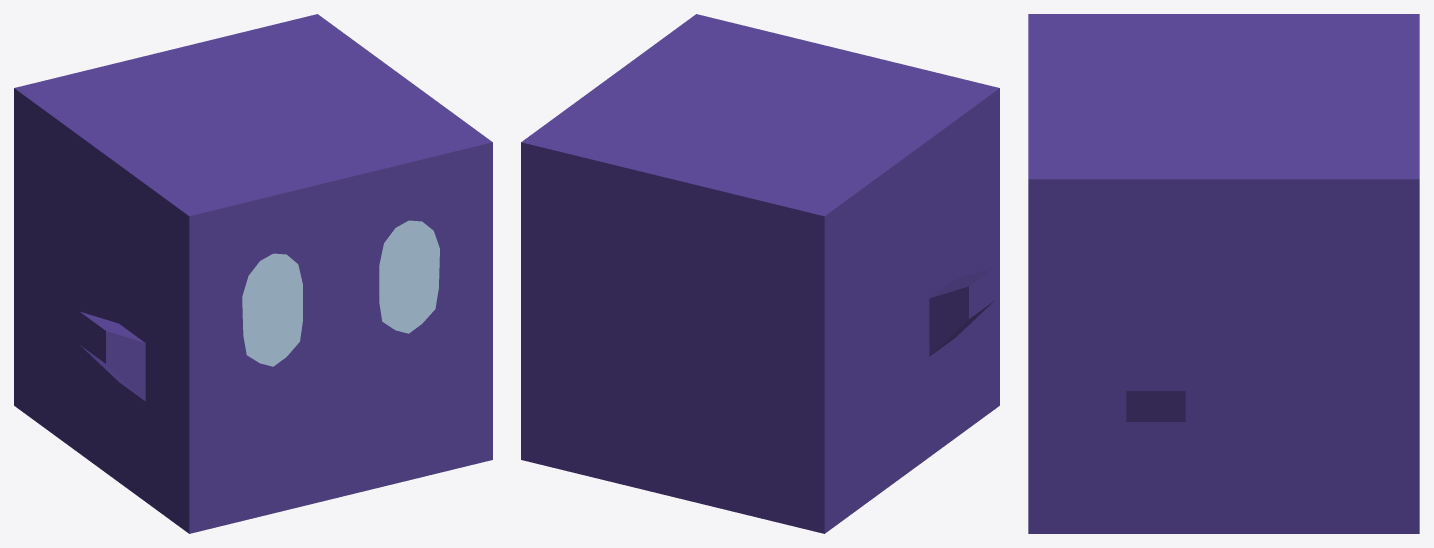
The model's file is new_cube_minion.dae.
3 renders of one model, left to right at view 1: azimuth 30°, elevation 25°; view 2: azimuth 150°, elevation 25°; view 3: azimuth 270°, elevation 25°, orthographic. The views are drawn at different scales.
Parts seen in each view (by area): view 1: Cube; view 2: Cube; view 3: Cube.
Boxes of the visible parts, bbox=[...] form: Cube: bbox=[14, 14, 492, 533]; Cube: bbox=[521, 14, 999, 533]; Cube: bbox=[1028, 14, 1419, 533].
Bounding box in the file's own units: 2.52 × 2 × 2.
Materials: 2 (2 with a texture image).
